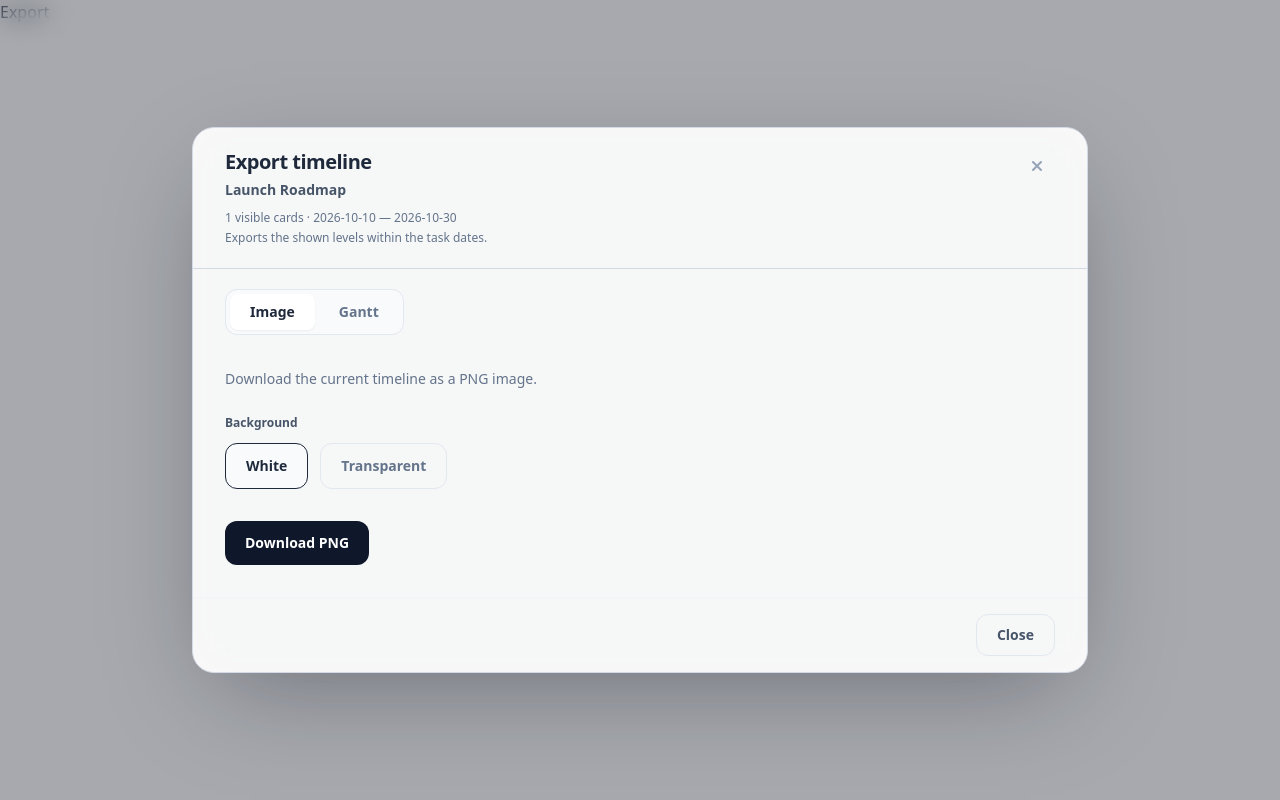
it: timeline export dialog › charts the visible levels within the task dates without private card fields
The width and height of the screenshot is (1280, 800).
Check: the dialog shows "1 visible cards · 2026-10-10 — 2026-10-30", box [225,209,457,226]
Click the tab "Gantt". click: (359, 312)
box: [319,294,399,330]
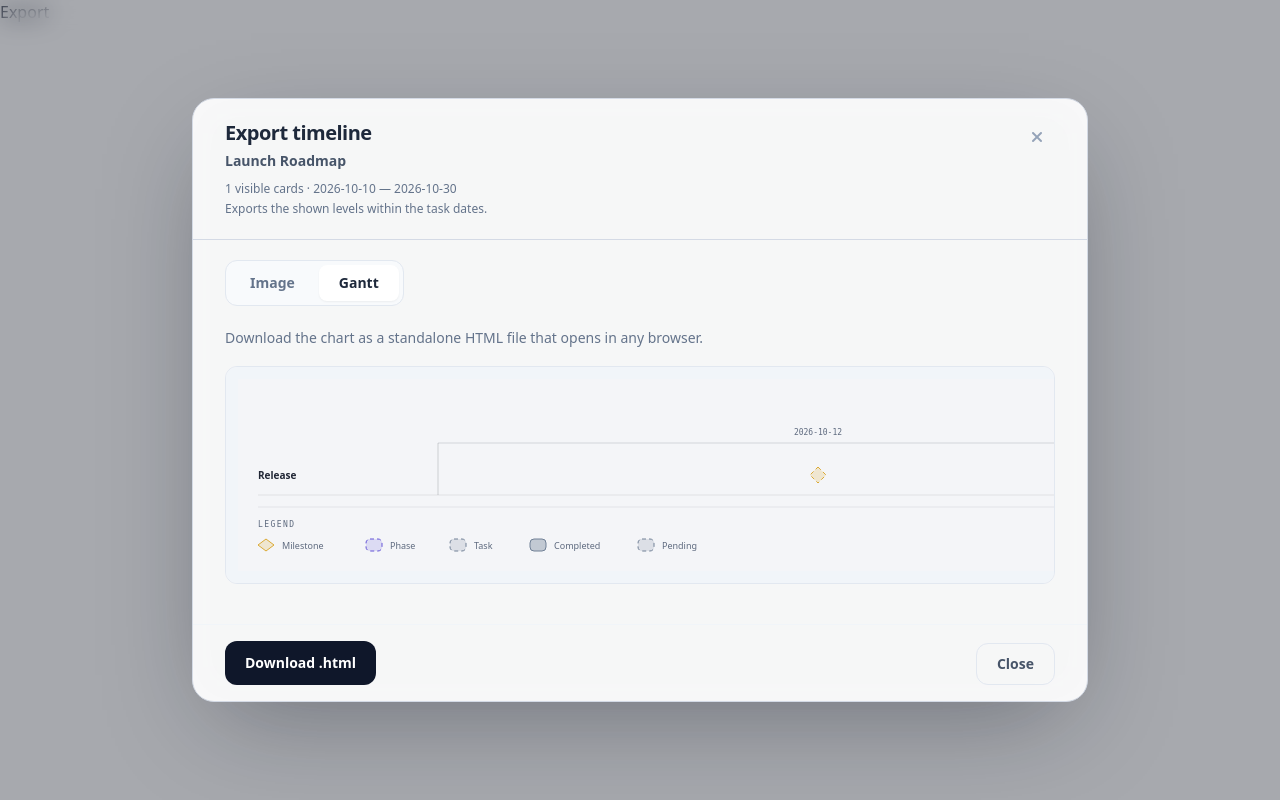
Check: the picture named "Timeline chart preview" is shown, box [238,379,1042,571]
Check: the picture named "Timeline chart preview" shows "Release", box [258,468,296,482]
Check: the button "Download .html" is enabled, box [225,641,376,685]
